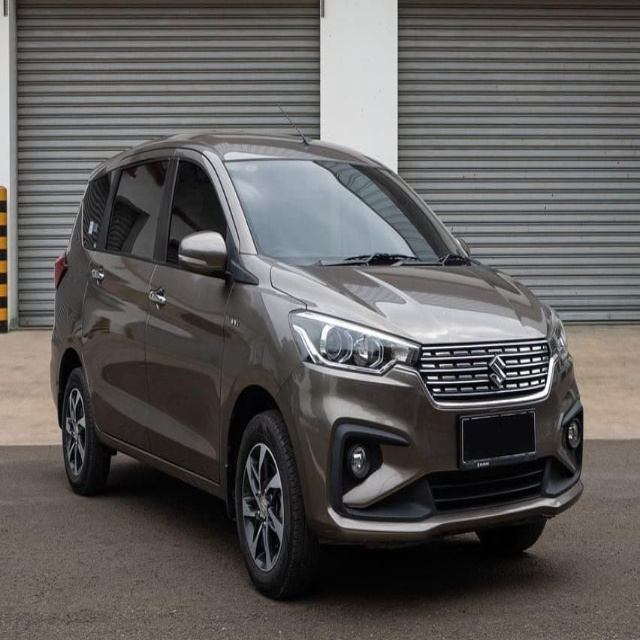Car: (50, 131, 584, 602)
